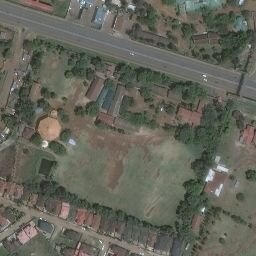tree: (85, 101, 99, 117), (30, 133, 42, 145), (181, 22, 190, 38), (60, 128, 71, 141), (54, 144, 66, 155), (138, 86, 150, 96), (165, 104, 175, 114), (48, 140, 58, 150), (115, 62, 126, 71), (40, 87, 49, 98), (73, 106, 84, 115), (86, 68, 94, 80), (235, 192, 245, 201), (104, 78, 113, 88), (60, 114, 70, 123), (64, 70, 74, 78), (218, 237, 225, 244), (50, 92, 55, 98)
